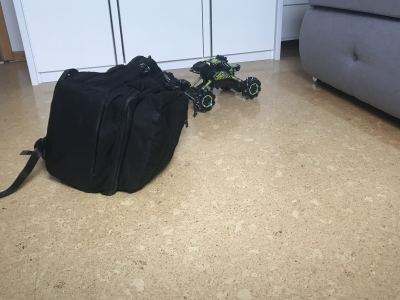remote control car: (176, 49, 262, 114)
